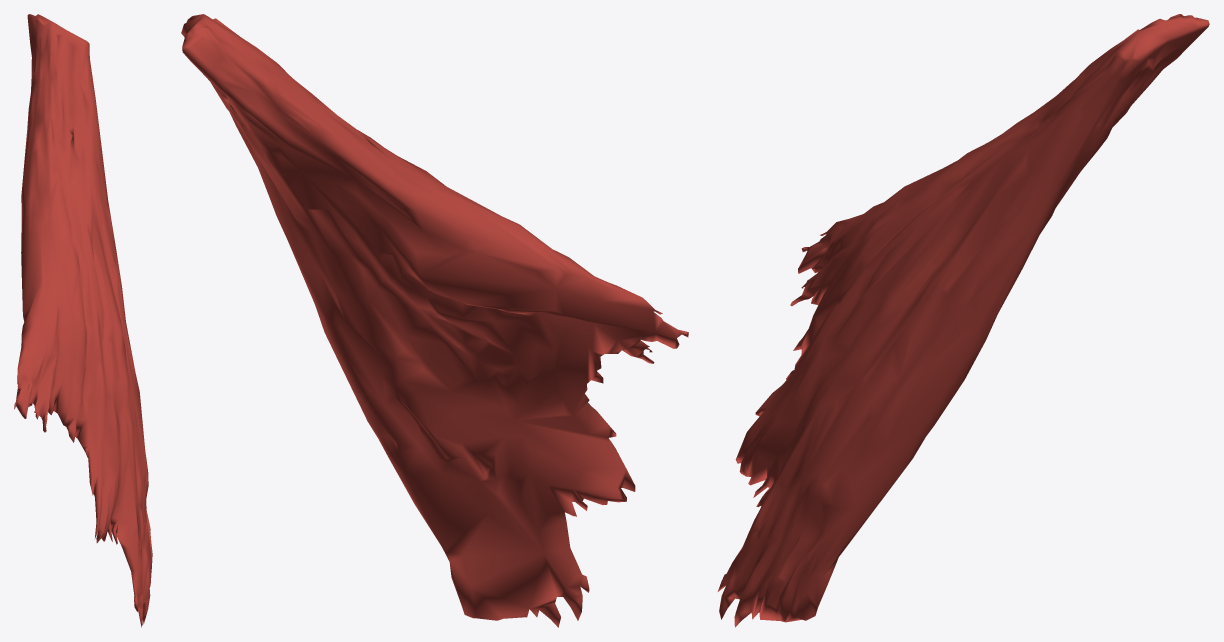
The model's file is musculos-pectoralis-minor-muscle-l.glb.
3 renders of one model, left to right at view 1: azimuth 30°, elevation 25°; view 2: azimuth 150°, elevation 25°; view 3: azimuth 270°, elevation 25°, orthographic. The views are drawn at different scales.
Parts seen in each view (by area): view 1: Pectoralis minor muscle.l; view 2: Pectoralis minor muscle.l; view 3: Pectoralis minor muscle.l.
Boxes of the visible parts, <box> form: Pectoralis minor muscle.l: <box>14,14,152,627</box>; Pectoralis minor muscle.l: <box>181,14,688,627</box>; Pectoralis minor muscle.l: <box>717,14,1209,627</box>.
Bounding box in the file's own units: 0.0585 × 0.139 × 0.0951.
